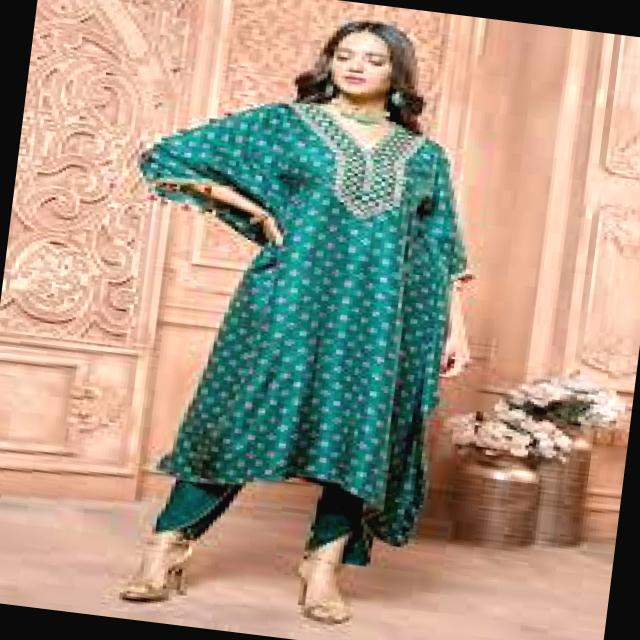dress: (139, 102, 468, 544)
